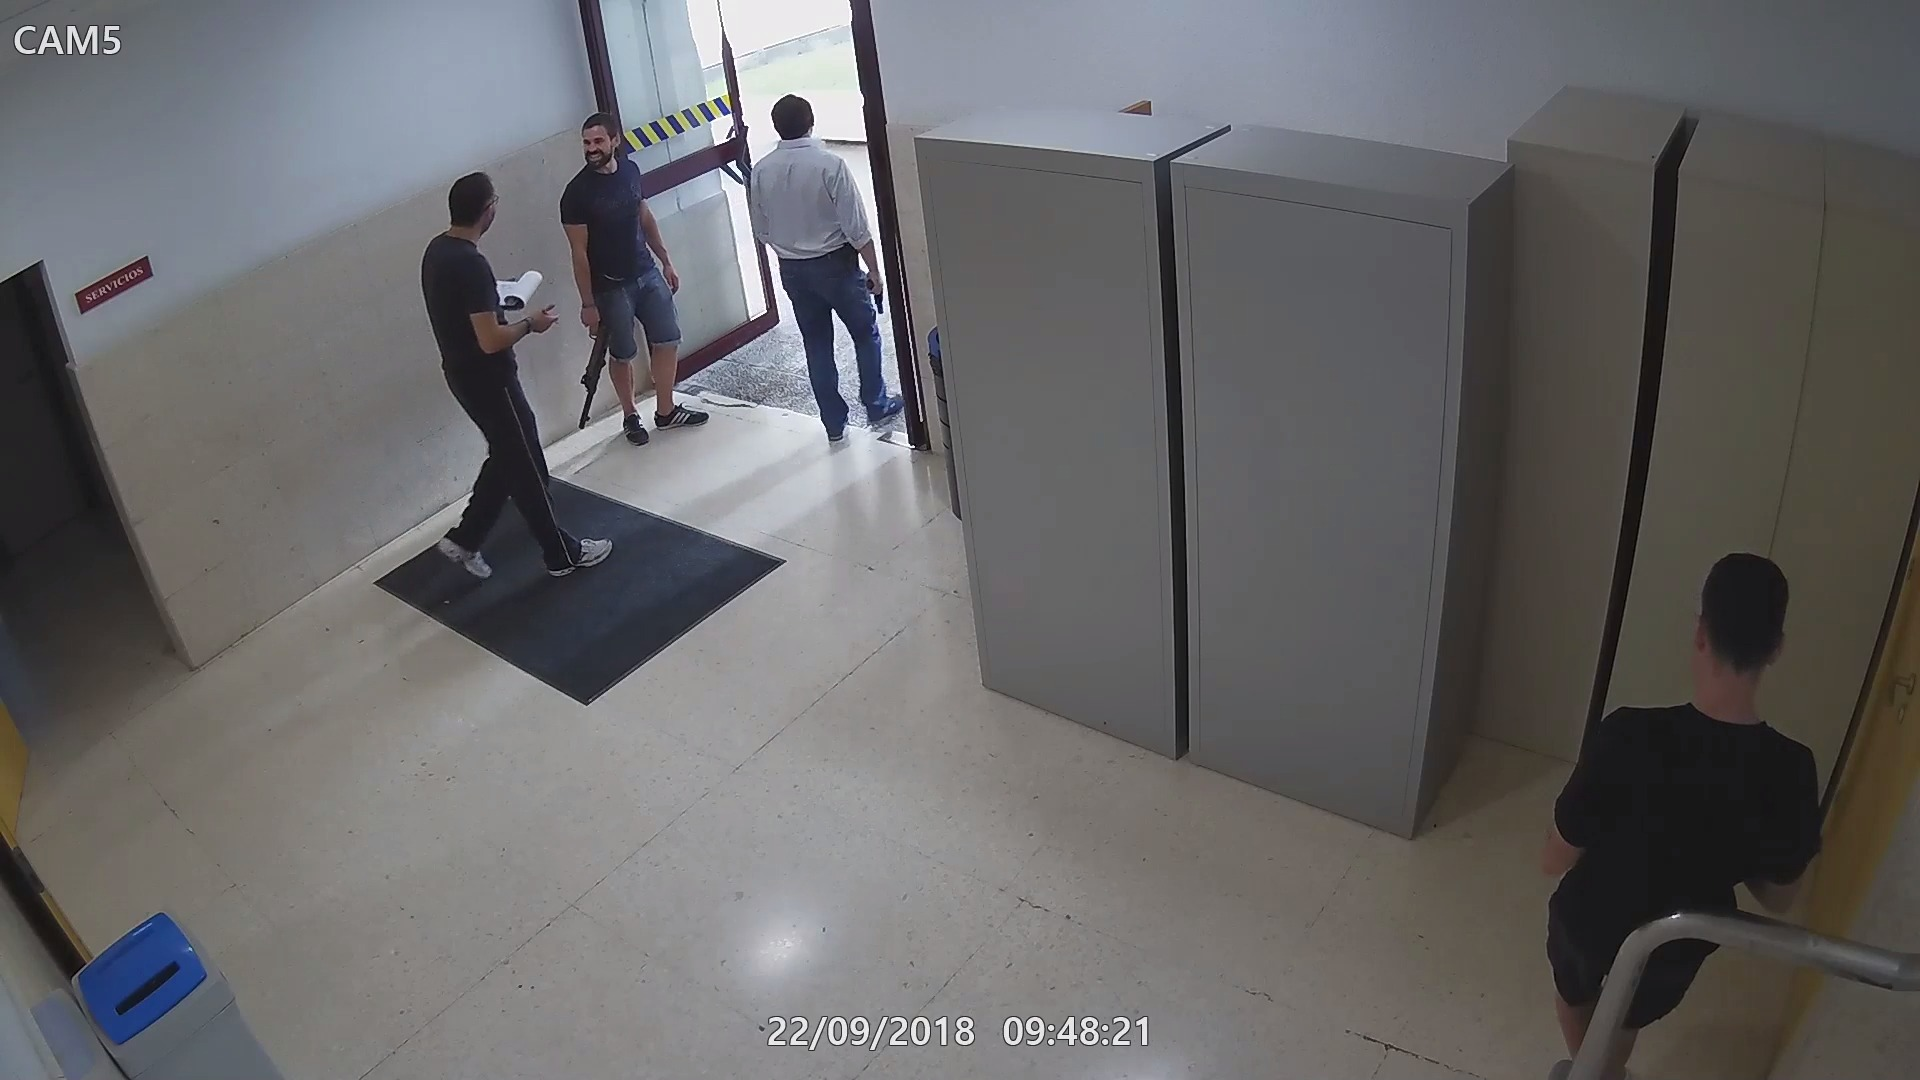Handgun: (862, 270, 889, 315)
Short_rifle: (574, 305, 615, 434)
